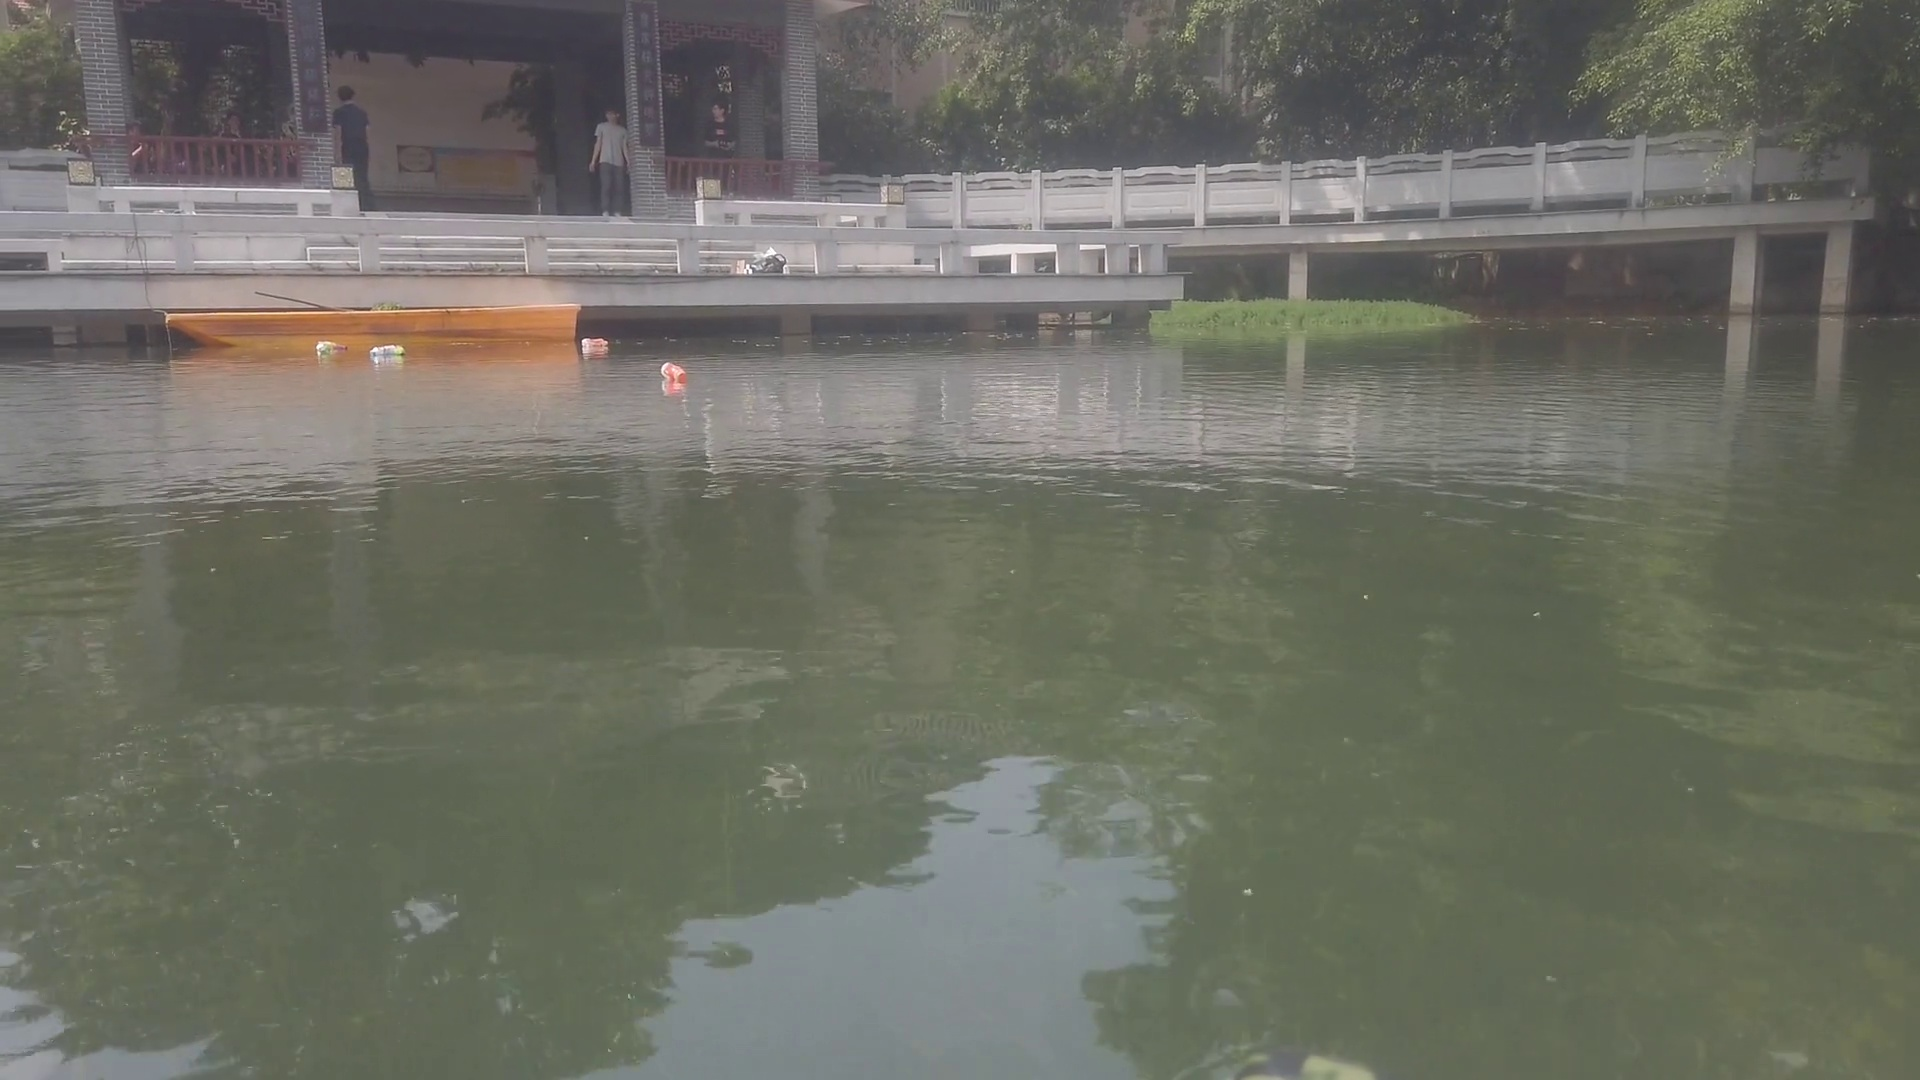bottle: (658, 357, 691, 384), (315, 340, 349, 355), (582, 338, 605, 348), (371, 344, 392, 356), (315, 347, 331, 357), (396, 345, 409, 357)
